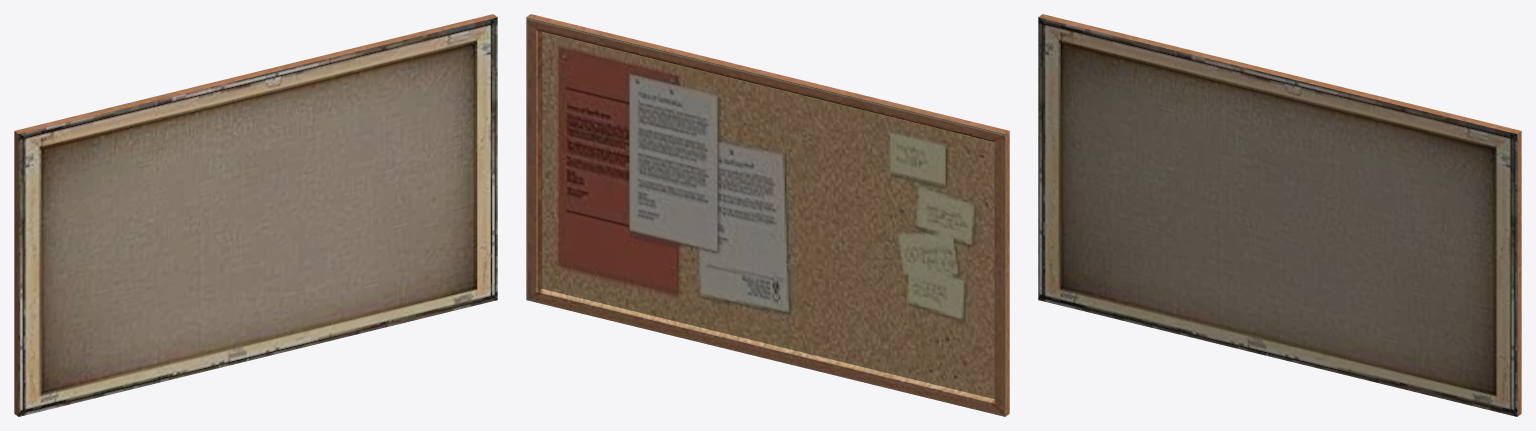
Rendered from offcorkboarda.glb.
3 views of the same model, side by side, from view 1: azimuth 30°, elevation 25°; view 2: azimuth 150°, elevation 25°; view 3: azimuth 330°, elevation 25° (orthographic).
Visible parts, largest first — view 1: 0_Poster_backing, 1_offcorkboarda; view 2: 1_offcorkboarda; view 3: 0_Poster_backing, 1_offcorkboarda.
Boxes of the visible parts, bbox=[...] form: 0_Poster_backing: bbox=[18, 17, 497, 416]; 1_offcorkboarda: bbox=[14, 14, 497, 416]; 1_offcorkboarda: bbox=[526, 14, 1009, 416]; 0_Poster_backing: bbox=[1038, 17, 1517, 416]; 1_offcorkboarda: bbox=[1038, 14, 1521, 416].
Size of the model in its own units: 1.08 by 0.6096 by 0.0178.
2 materials, 2 textured.
